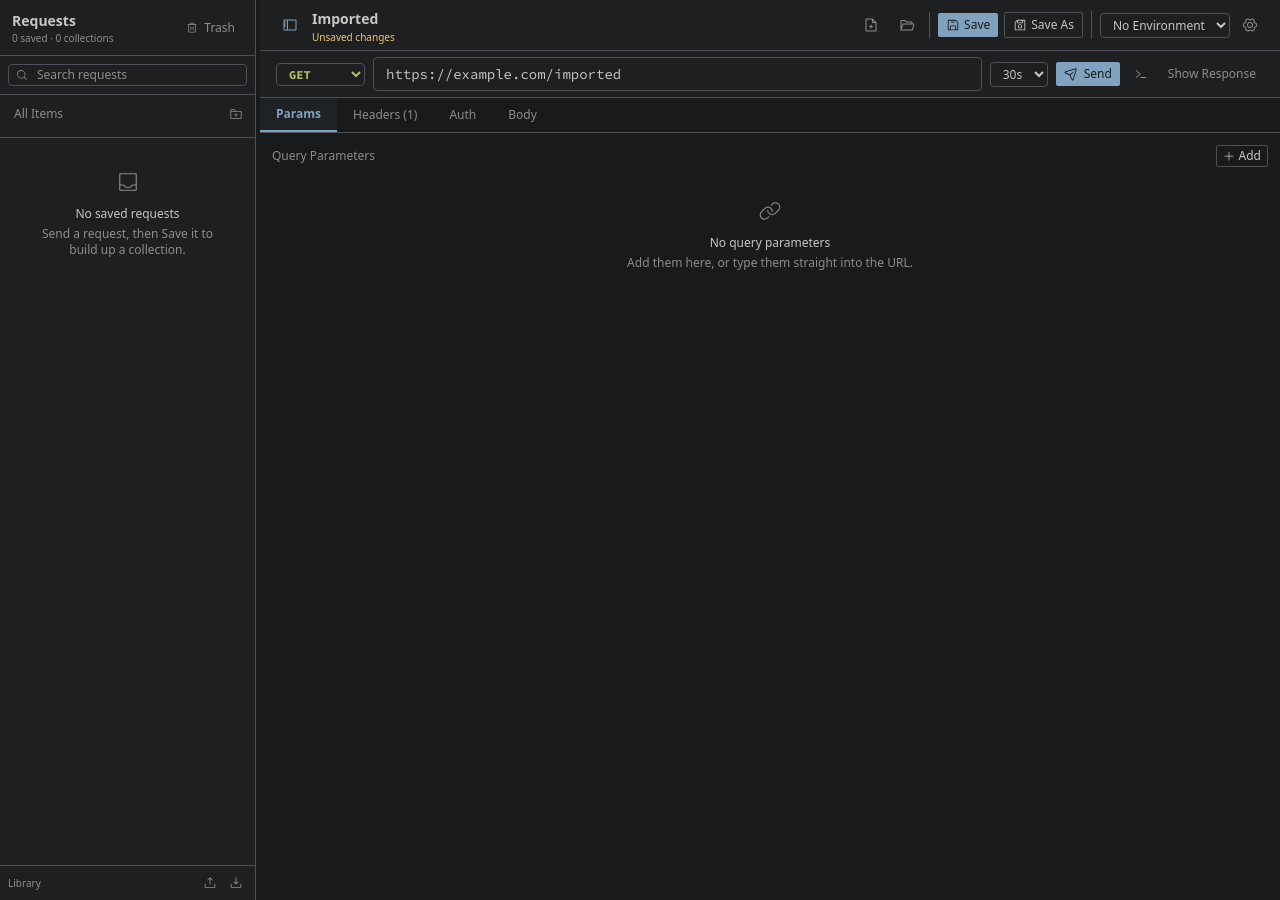
Scenario: ApiClient › opens when restored tool state holds a header map instead of a header array
Expected: the field showing "https://example.com/imported" is shown, [373,57,982,91]
What coordinates should you click on to do the following:
click the tab "Headers (1)"
I would click on:
 (385, 115)
Its box is [337,98,433,132].
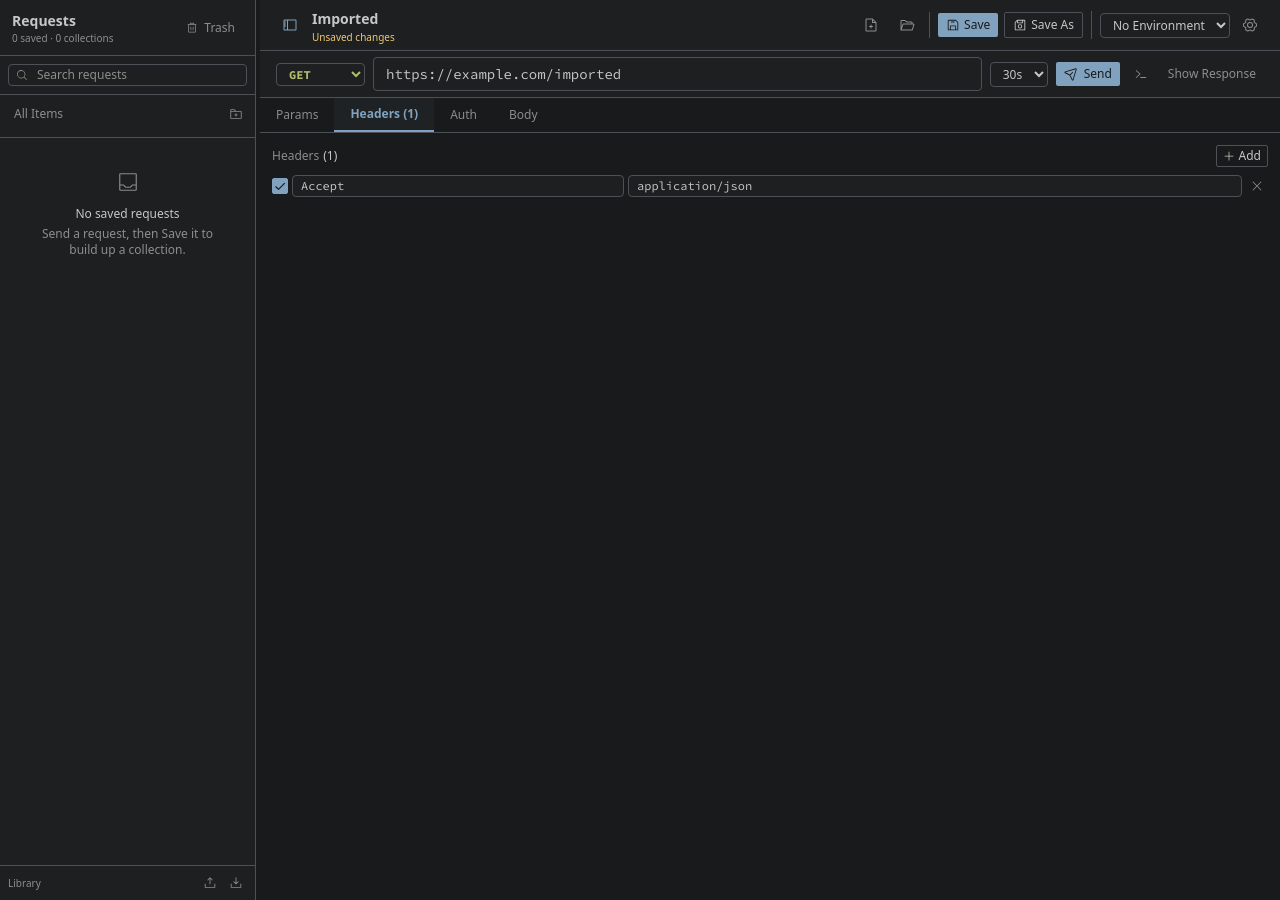
Expected: the field showing "Accept" is shown, [292,175,624,197]
Expected: the field showing "application/json" is shown, [628,175,1242,197]
